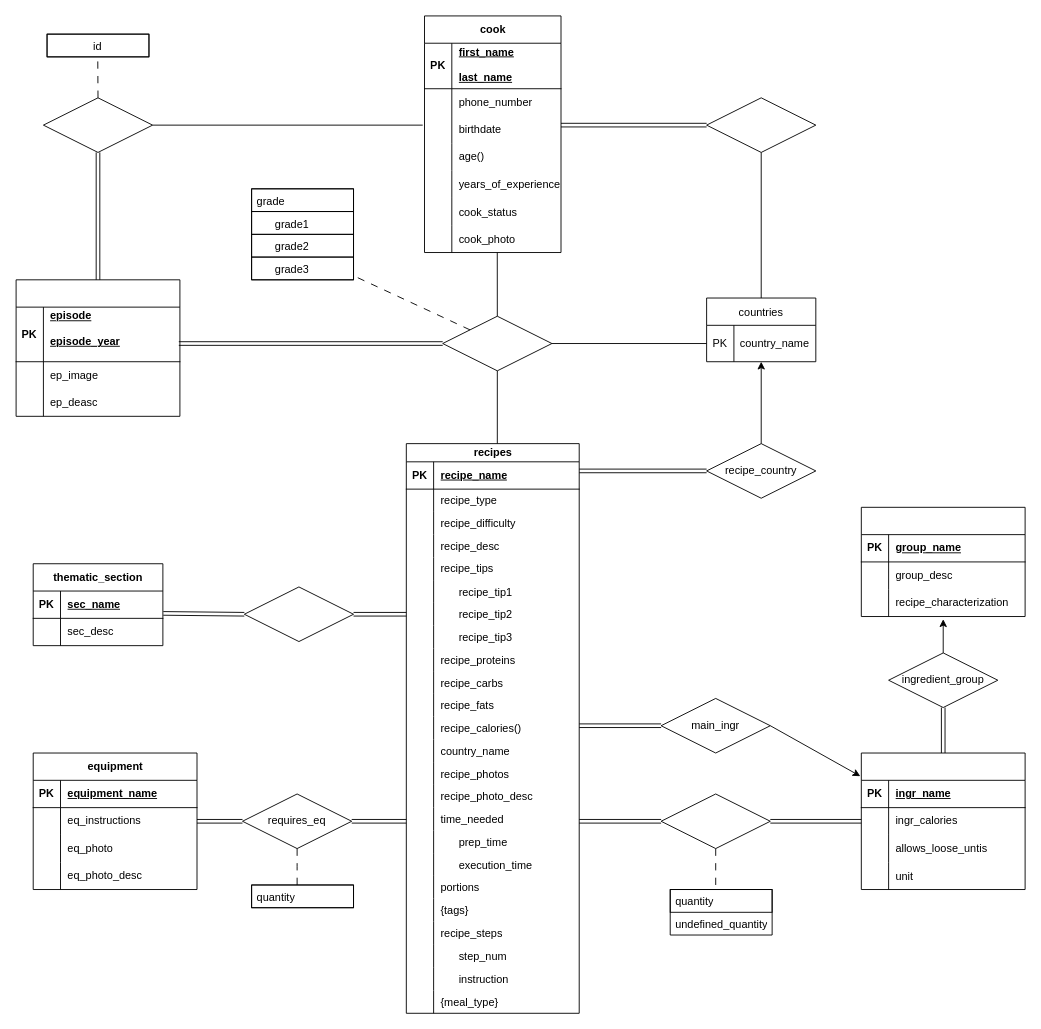
The diagram is 1041 pixels wide and 1029 high, and some of its shapes have lost their labels. Here are the shapes that lost their labels. From the top down, the box of each, then its label:
(42, 97, 153, 152): is_a_critic
(706, 97, 816, 152): expertise
(15, 279, 180, 416): episodes
(442, 315, 552, 371): is_a_contestant
(860, 506, 1025, 617): food_groups
(243, 586, 354, 642): recipe_belongs_to
(660, 793, 770, 849): requires_ingr
(860, 752, 1025, 890): ingredients
